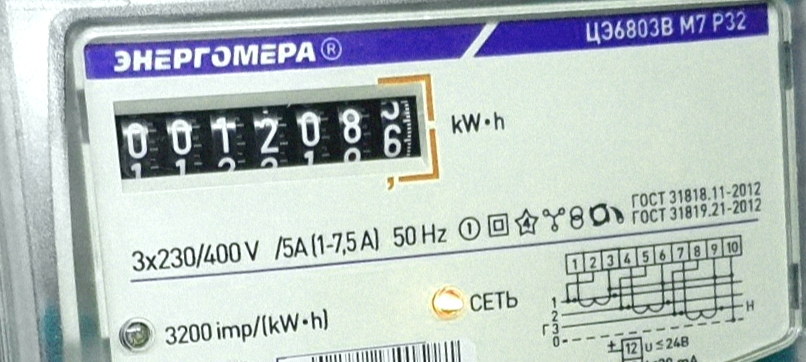0: (166, 113, 198, 158), (123, 116, 151, 160), (297, 107, 324, 148)
1: (211, 112, 237, 155)
2: (254, 113, 283, 155)
6: (378, 120, 405, 158)
8: (339, 103, 365, 146)
screen: (102, 51, 454, 227)
